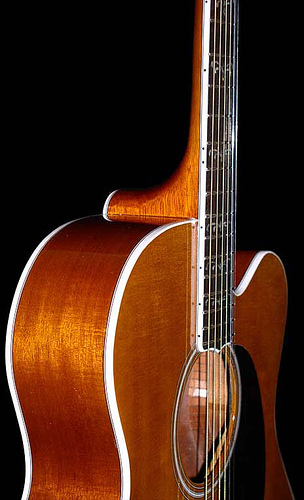guitar: (7, 3, 291, 499)
